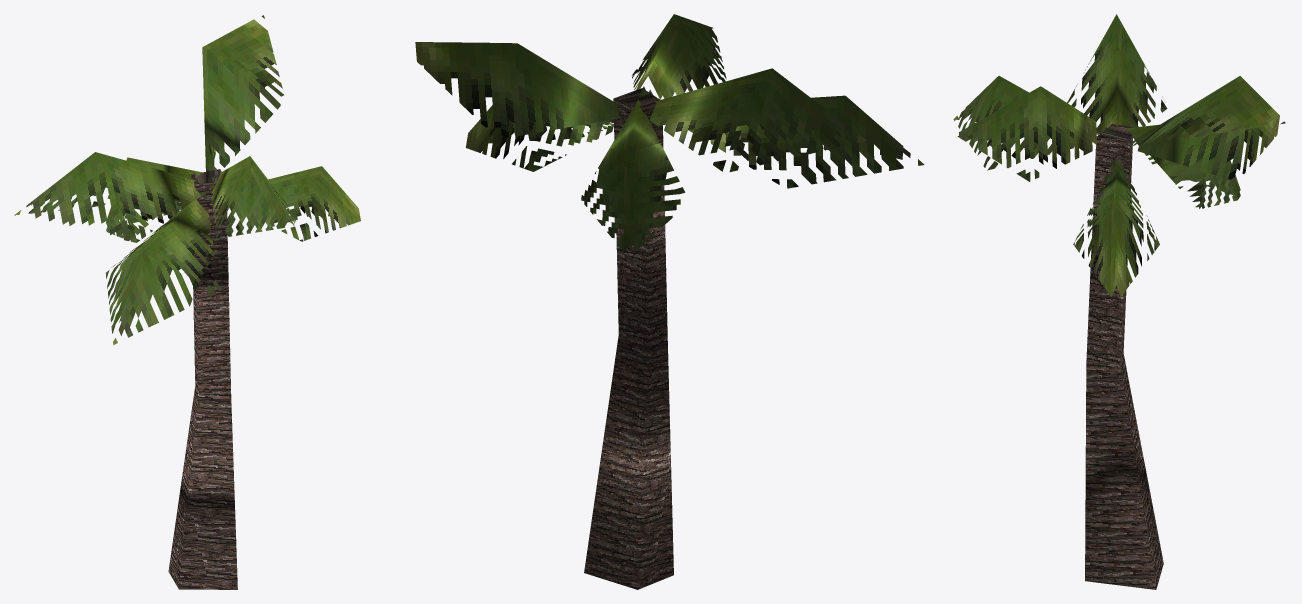
File: PpalmZ.obj
The picture shows the model from 3 angles, left to right: view 1: azimuth 30°, elevation 25°; view 2: azimuth 150°, elevation 25°; view 3: azimuth 270°, elevation 25°; orthographic projection. The views are drawn at different scales.
Bounding box in the file's own units: 11323 × 14727 × 8505.
Materials: 2 (2 with a texture image).
